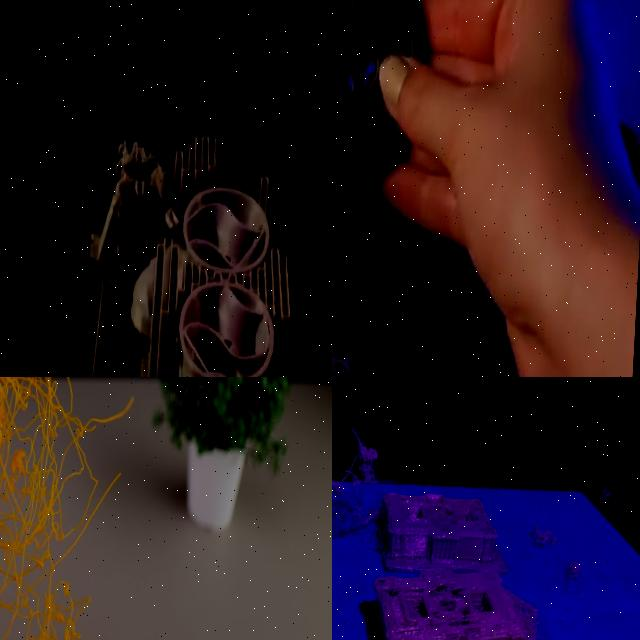spaghetti: (332, 425, 390, 548), (522, 516, 596, 594), (455, 601, 599, 640)
